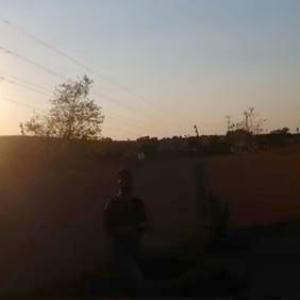follow: (103, 160, 161, 299)
